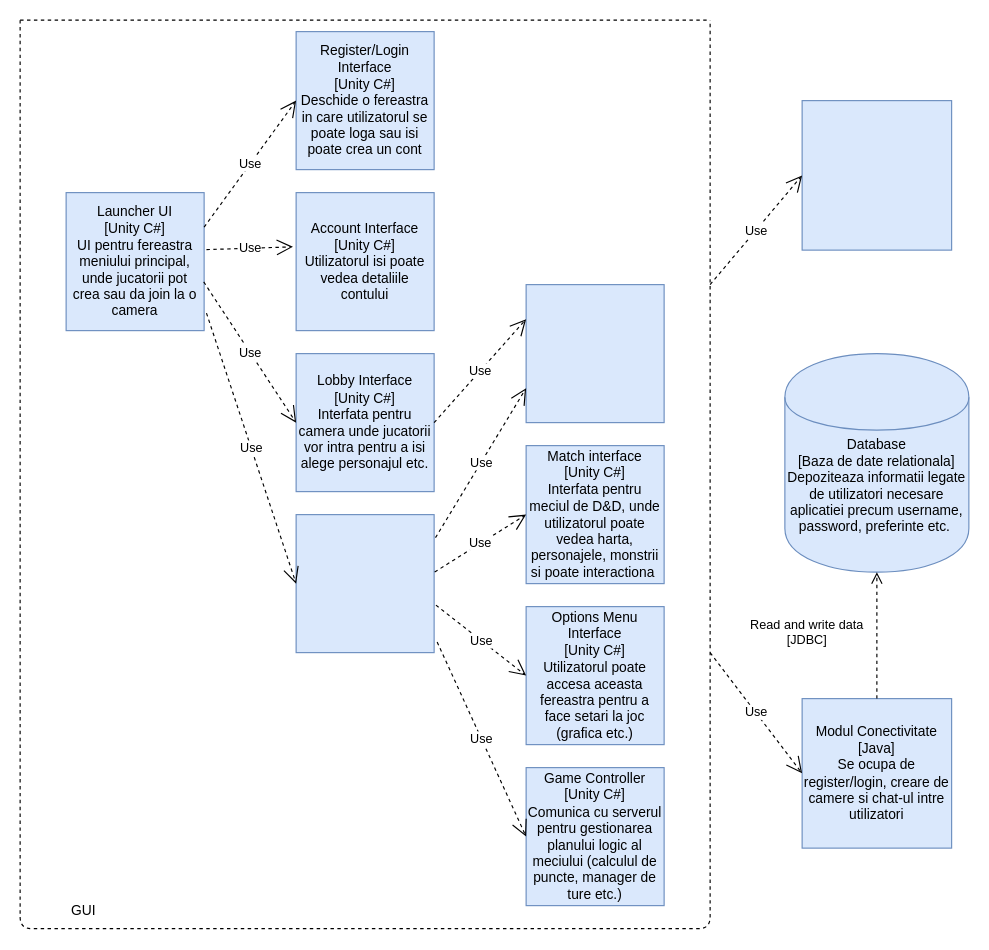
This 989x950 diagram has some shape labels left out. Here are the shapes that lost their labels. From the top down, the centre of each, then its label:
[876,174]: Server [C++] Se ocupa de derularea efectiva a unui meci de D&D
[594,353]: Chat Interface [Unity C#] Interfata pentru mesaje intre jucatori
[364,583]: Game UI [Unity C#] UI-ul efectiv al jocului de D&D
